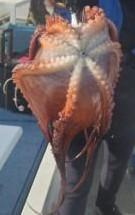Cephalopod: (12, 5, 121, 197)
